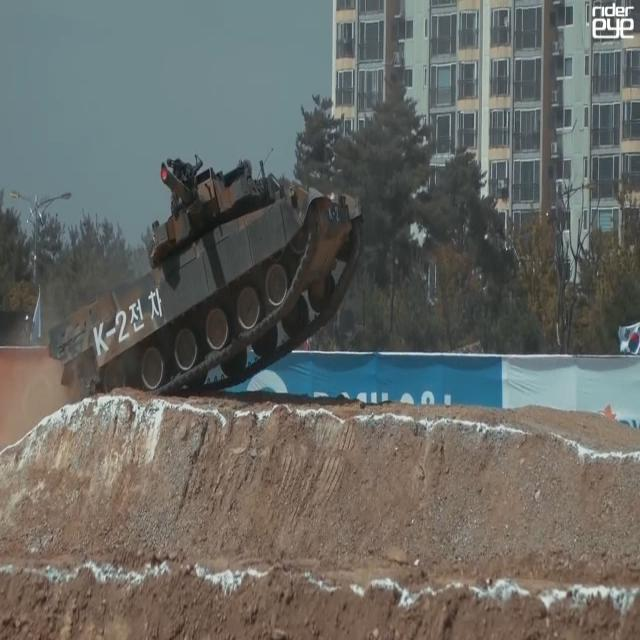korea tank: (48, 152, 364, 398)
